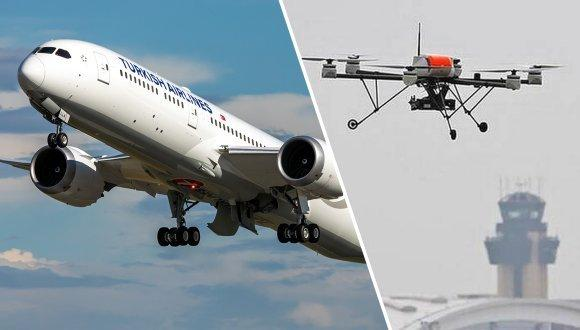drone: (300, 41, 568, 122)
